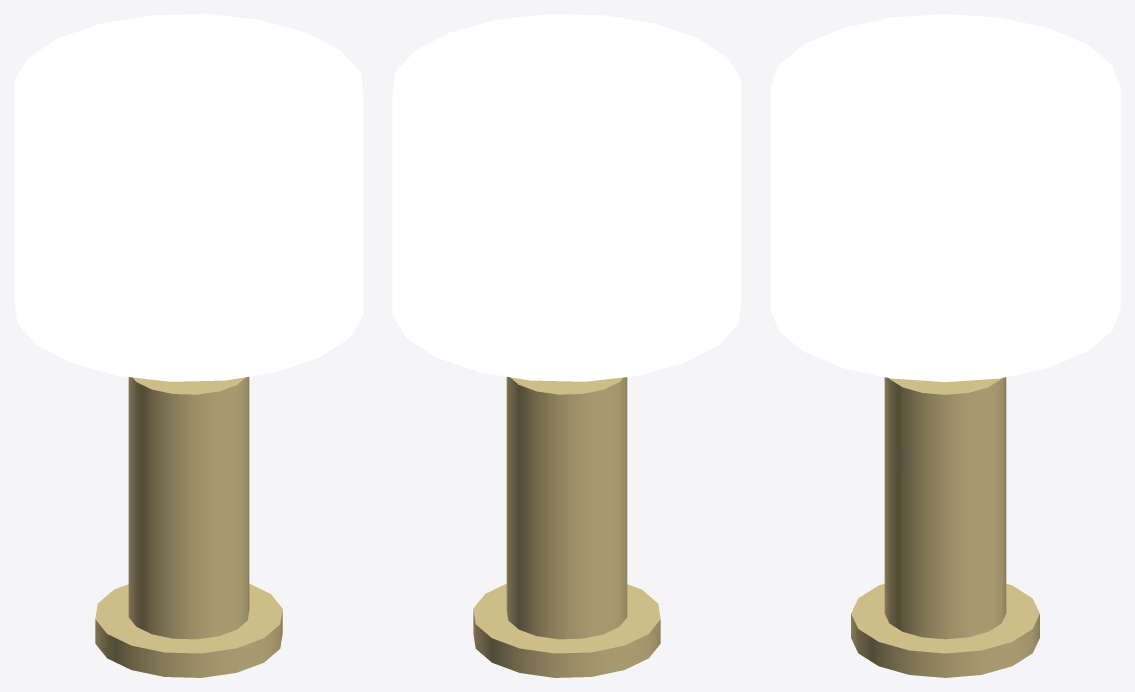
The model's file is bb_set_tablelamp.fbx.
3 renders of one model, left to right at view 1: azimuth 30°, elevation 25°; view 2: azimuth 150°, elevation 25°; view 3: azimuth 270°, elevation 25°, orthographic.
Visible parts, largest first — view 1: bb_set_tablelamp; view 2: bb_set_tablelamp; view 3: bb_set_tablelamp.
Part boxes in pixels (bbox=[...]): bb_set_tablelamp: bbox=[14, 14, 363, 677]; bb_set_tablelamp: bbox=[392, 14, 741, 677]; bb_set_tablelamp: bbox=[770, 14, 1120, 677].
Bounding box in the file's own units: 0.26 × 0.45 × 0.26.
